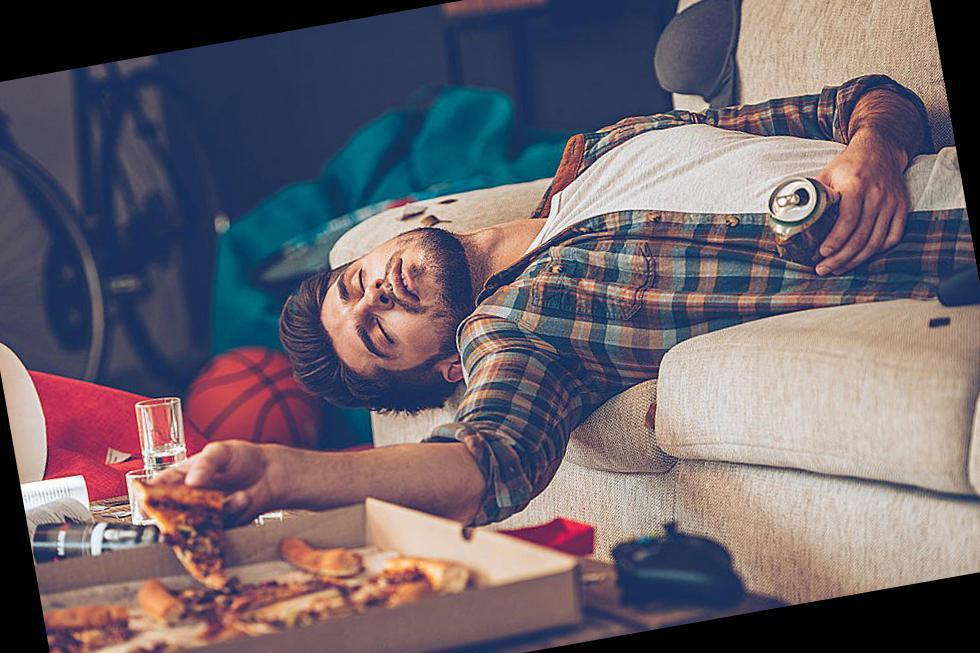Drunk: (328, 235, 456, 369)
